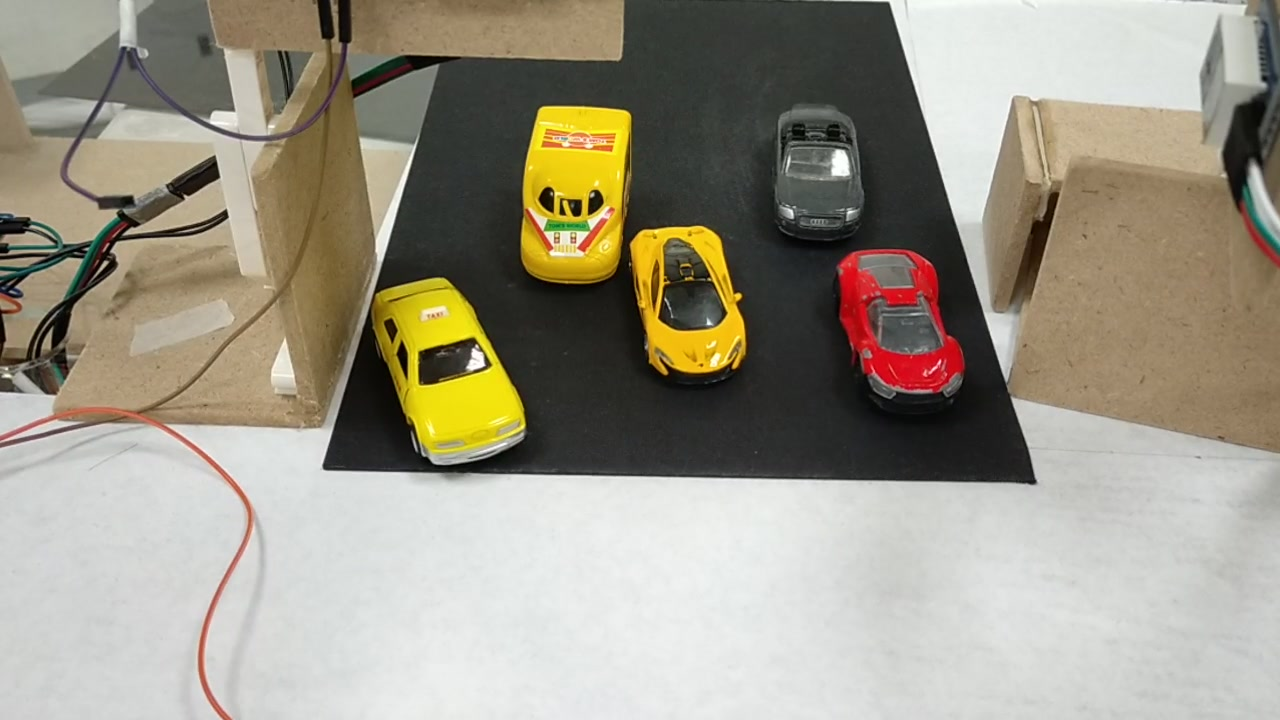car: (366, 284, 528, 470), (838, 250, 966, 419), (628, 224, 747, 391), (773, 106, 859, 240)
